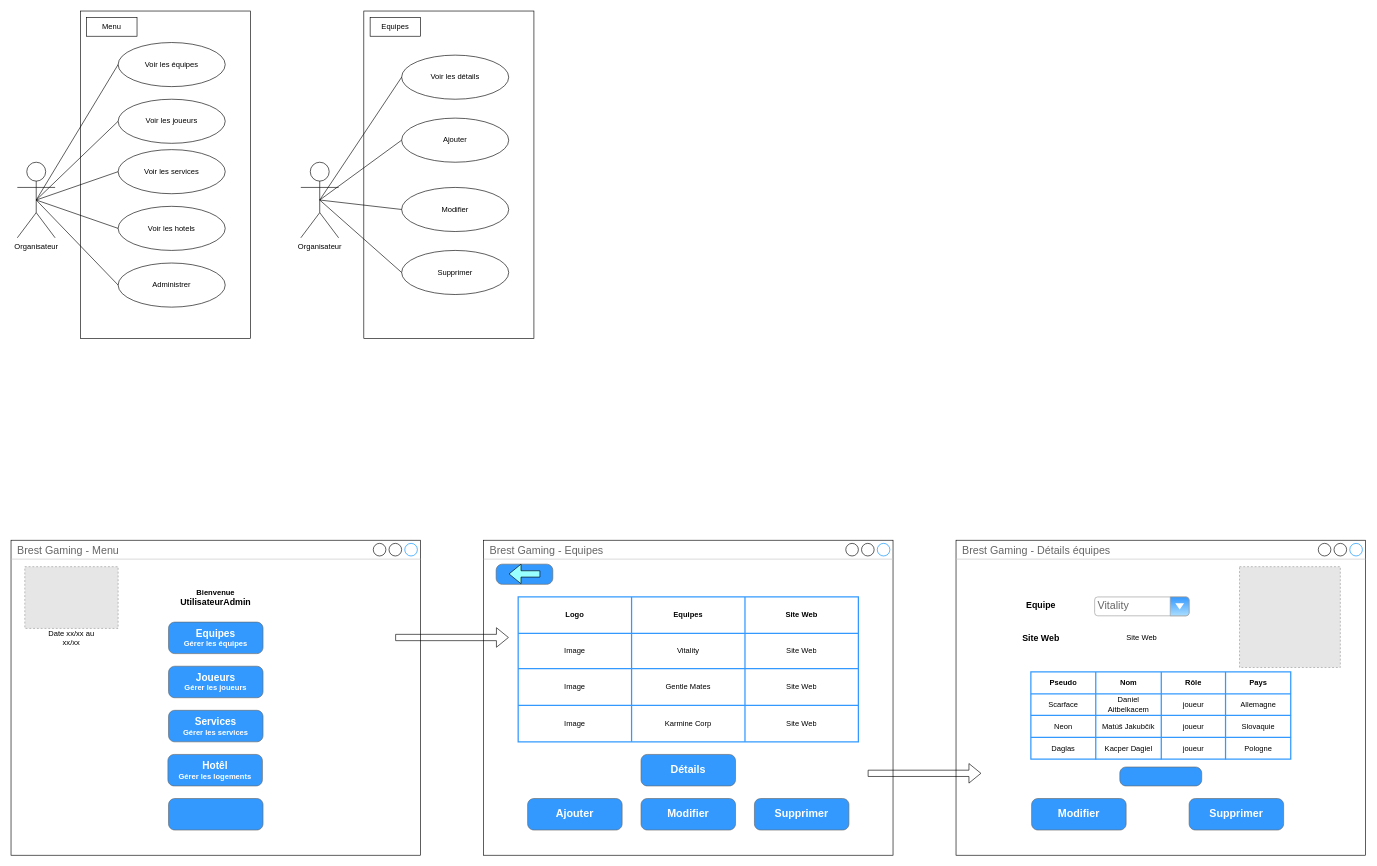
Image size: 1377x866. Some labels were removed from this diagram. Grey dashed boxes stand in for pictures. The centre of each missing label's shape, as x and y in pixels:
"Administration" goes at pixel 215 814.
"Voir plus" goes at pixel 1160 776.
